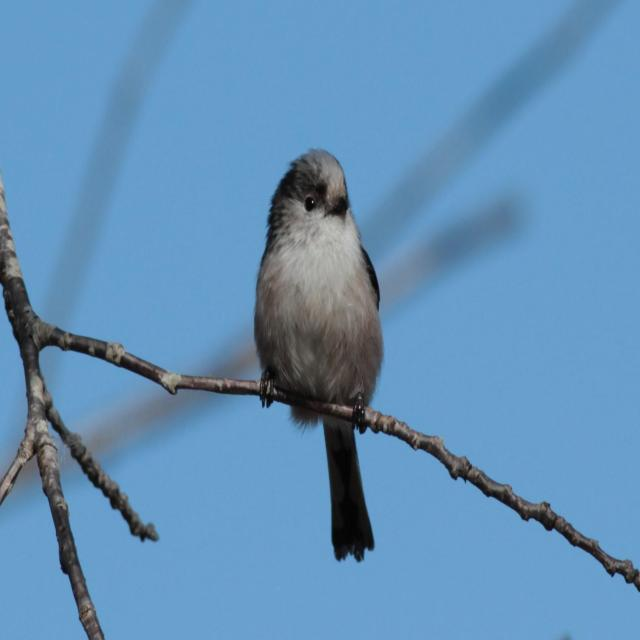bird: (246, 150, 388, 575)
